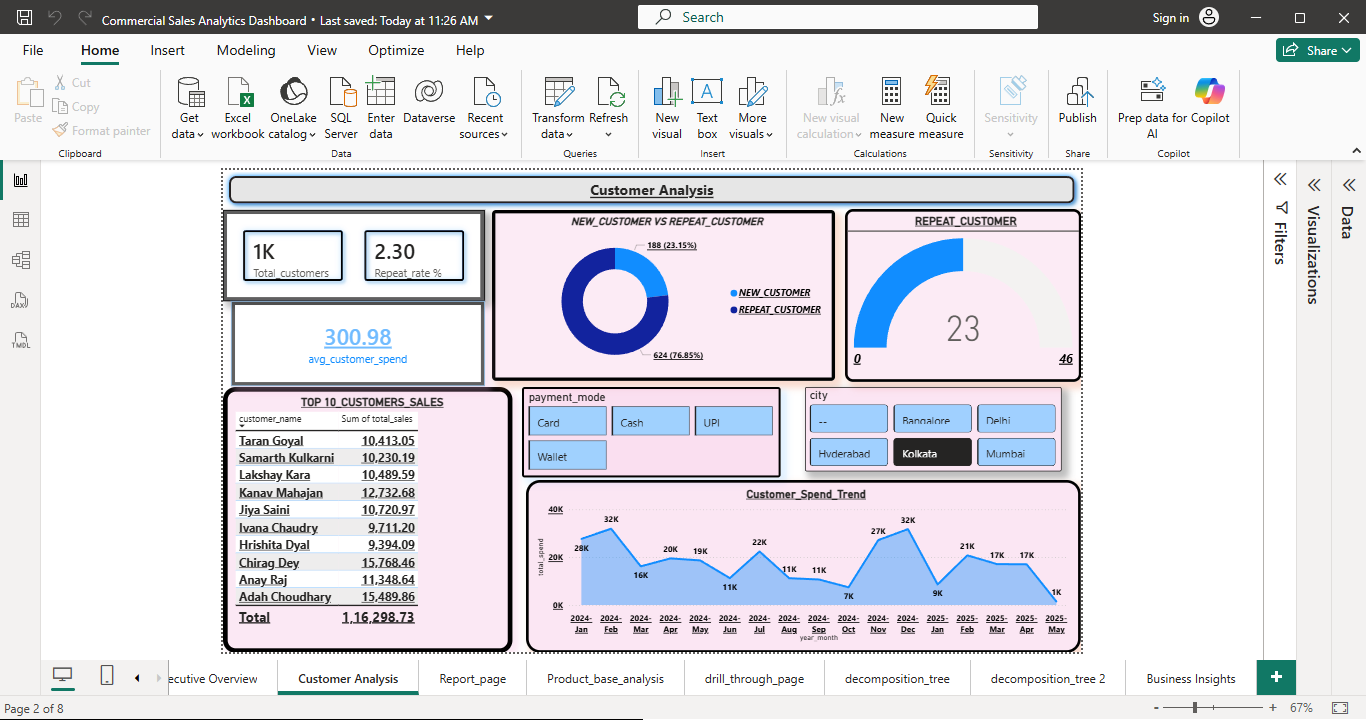

The page's visual inventory and layout, read from the dashboard file:
{"tool":"powerbi","page":{"name":"Customer Analysis","canvas":[1280,720],"ordinal":1},"visuals":[{"type":"shape","box":[0,0,1280,58.8],"z":0},{"type":"gauge","title":"REPEAT_CUSTOMER","fields":{"Y":["Measure_Table.Repeat_customer"]},"box":[927.8,58.5,352.7,257.6],"z":1000},{"type":"tableEx","title":"TOP 10_CUSTOMERS_SALES","fields":{"Values":["delivery_partner customer_total_spend.customer_name","Sum(delivery_partner customer_total_spend.total_sales)"]},"box":[0,323.4,431.7,396.6],"z":2000},{"type":"donutChart","title":"NEW_CUSTOMER VS REPEAT_CUSTOMER","fields":{"Y":["Measure_Table.NEW_CUSTOMER","Sum(delivery_partner repeat_customers.total_orders)"]},"box":[401,60,512.2,254.6],"z":3000},{"type":"advancedSlicerVisual","fields":{"Values":["delivery_partner orders.payment_mode"]},"box":[446.3,323.4,386.3,134.6],"z":4000},{"type":"advancedSlicerVisual","fields":{"Values":["delivery_partner orders.city"]},"box":[869.3,323.4,383.4,125.9],"z":5000},{"type":"cardVisual","fields":{"Data":["Measure_Table.Total_customers","Measure_Table.Repeat_rate %"]},"box":[0,60,390.7,136.1],"z":6000},{"type":"cardVisual","fields":{"Data":["Measure_Table.avg_customer_spend"]},"box":[11.7,196.1,379,127.3],"z":7000},{"type":"lineChart","title":"Customer_Spend_Trend","fields":{"Category":["Date_Table.year_month"],"Y":["Measure_Table.total_spend"]},"box":[452.2,462.4,828.3,257.6],"z":8000}]}

Visuals, with their boxes on the page's 1280x720 design canvas (x1, y1, x2, y2). These are canvas units, not pixel positions in the 1366x720 screenshot, which may show the page scaled, cropped or inside an application window:
shape: {"x1": 0, "y1": 0, "x2": 1280, "y2": 59}
"REPEAT_CUSTOMER" gauge: {"x1": 928, "y1": 58, "x2": 1280, "y2": 316}
"TOP 10_CUSTOMERS_SALES" tableEx: {"x1": 0, "y1": 323, "x2": 432, "y2": 720}
"NEW_CUSTOMER VS REPEAT_CUSTOMER" donutChart: {"x1": 401, "y1": 60, "x2": 913, "y2": 315}
advancedSlicerVisual - delivery_partner orders.payment_mode: {"x1": 446, "y1": 323, "x2": 833, "y2": 458}
advancedSlicerVisual - delivery_partner orders.city: {"x1": 869, "y1": 323, "x2": 1253, "y2": 449}
cardVisual - Measure_Table.Total_customers x Measure_Table.Repeat_rate %: {"x1": 0, "y1": 60, "x2": 391, "y2": 196}
cardVisual - Measure_Table.avg_customer_spend: {"x1": 12, "y1": 196, "x2": 391, "y2": 323}
"Customer_Spend_Trend" lineChart: {"x1": 452, "y1": 462, "x2": 1280, "y2": 720}
